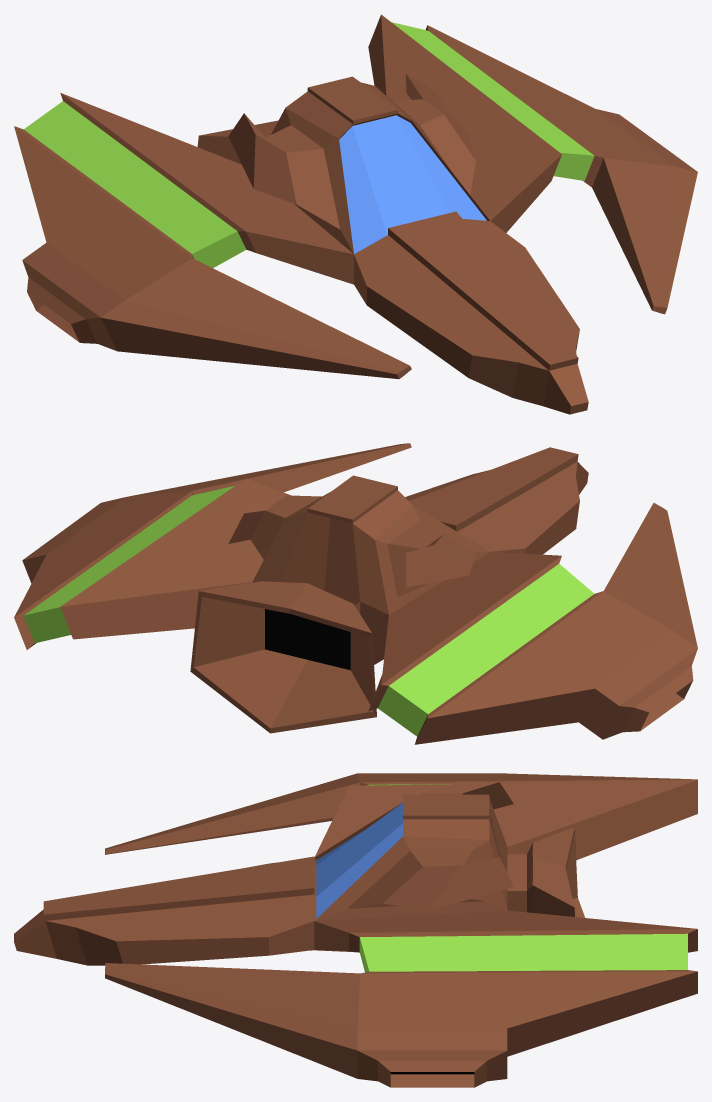
Rendered from SpeedRaptor.glb.
3 renders of one model, top to bottom at view 1: azimuth 30°, elevation 25°; view 2: azimuth 150°, elevation 25°; view 3: azimuth 270°, elevation 25°, orthographic. The views are drawn at different scales.
Visible parts, largest first — view 1: SpeedRaptor; view 2: SpeedRaptor; view 3: SpeedRaptor.
Boxes of the visible parts, x1,y1,x2,y2 form: SpeedRaptor: (14, 14, 697, 414); SpeedRaptor: (14, 443, 697, 744); SpeedRaptor: (14, 773, 697, 1087).
Size of the model in its own units: 9.13 by 2.46 by 9.13.
1 material, 1 textured.
